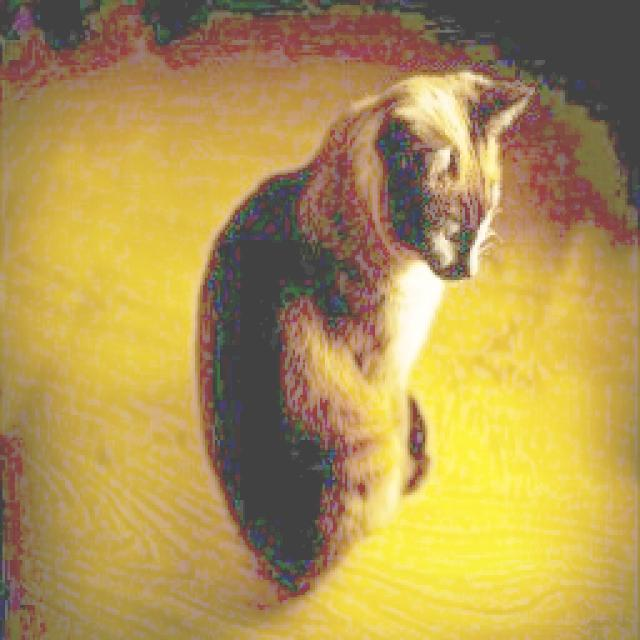cat: (145, 18, 538, 587)
